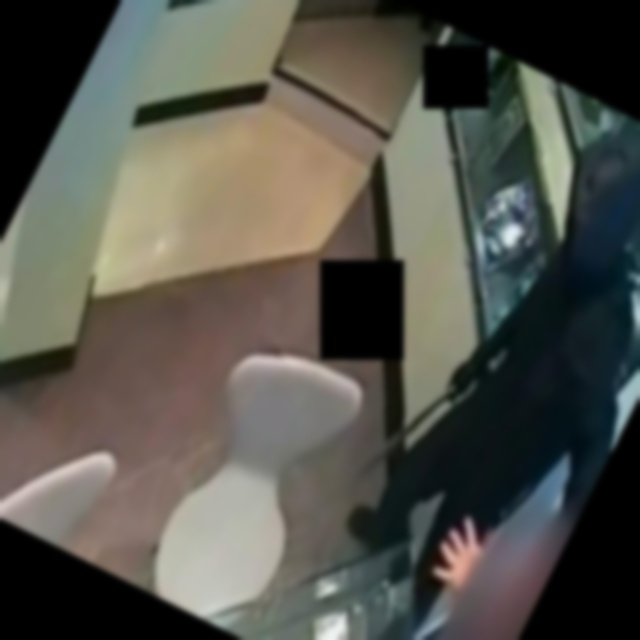gun: (350, 353, 472, 503)
